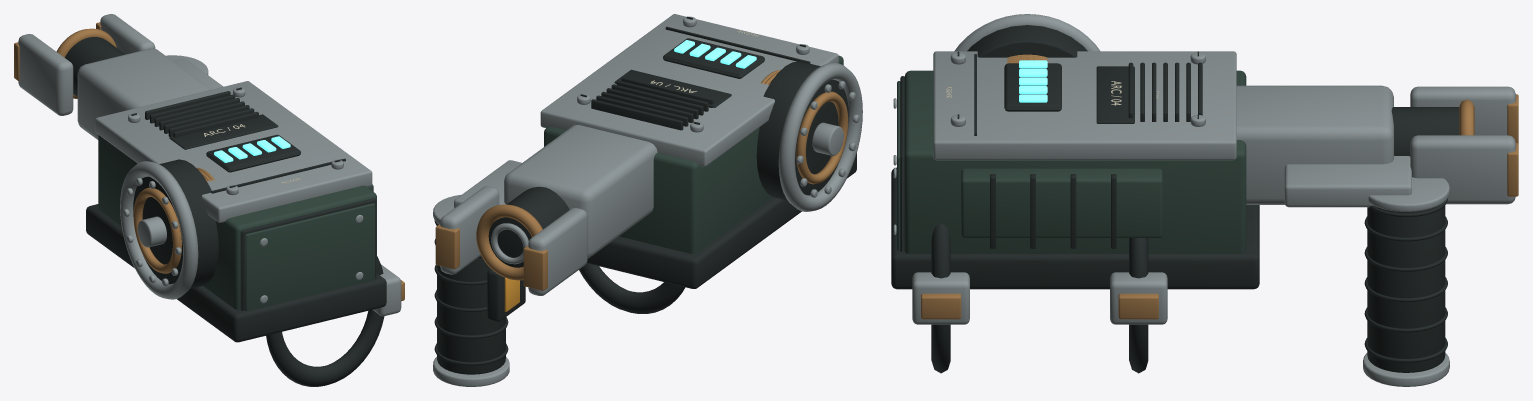
File: cable-cuff.glb
3 views of the same model, side by side, from view 1: azimuth 30°, elevation 25°; view 2: azimuth 150°, elevation 25°; view 3: azimuth 270°, elevation 25° (orthographic). The views are drawn at different scales.
Parts seen in each view (by area): view 1: Machined titanium, Rubber and woven cuffs, Ceramic teal enamel, Reel, JawL, Warm copper windings, JawR, Charge indicators; view 2: Machined titanium, Rubber and woven cuffs, Ceramic teal enamel, Warm copper windings, Reel, JawL, JawR, Charge indicators, Rescue amber markings; view 3: Machined titanium, Rubber and woven cuffs, Ceramic teal enamel, JawR, Warm copper windings, JawL, Reel, Charge indicators.
Part boxes in pixels (<box>): Machined titanium: <box>77,48,401,316</box>; Rubber and woven cuffs: <box>65,37,386,386</box>; Ceramic teal enamel: <box>98,135,376,310</box>; Reel: <box>133,159,218,288</box>; JawL: <box>18,34,73,115</box>; Warm copper windings: <box>14,22,404,300</box>; JawR: <box>100,14,155,54</box>; Charge indicators: <box>214,136,290,162</box>; Machined titanium: <box>433,14,862,386</box>; Rubber and woven cuffs: <box>434,16,856,374</box>; Ceramic teal enamel: <box>544,55,843,253</box>; Warm copper windings: <box>435,70,848,290</box>; Reel: <box>756,61,848,200</box>; JawL: <box>528,208,587,295</box>; JawR: <box>440,186,499,274</box>; Charge indicators: <box>674,40,756,68</box>; Rescue amber markings: <box>504,278,519,311</box>; Machined titanium: <box>893,14,1449,386</box>; Rubber and woven cuffs: <box>891,51,1459,373</box>; Ceramic teal enamel: <box>897,70,1246,253</box>; JawR: <box>1410,135,1515,204</box>; Warm copper windings: <box>921,54,1518,319</box>; JawL: <box>1410,86,1515,135</box>; Reel: <box>967,25,1087,57</box>; Charge indicators: <box>1019,60,1047,102</box>.
Bounding box in the file's own units: 0.1372 × 0.1359 × 0.2812.
